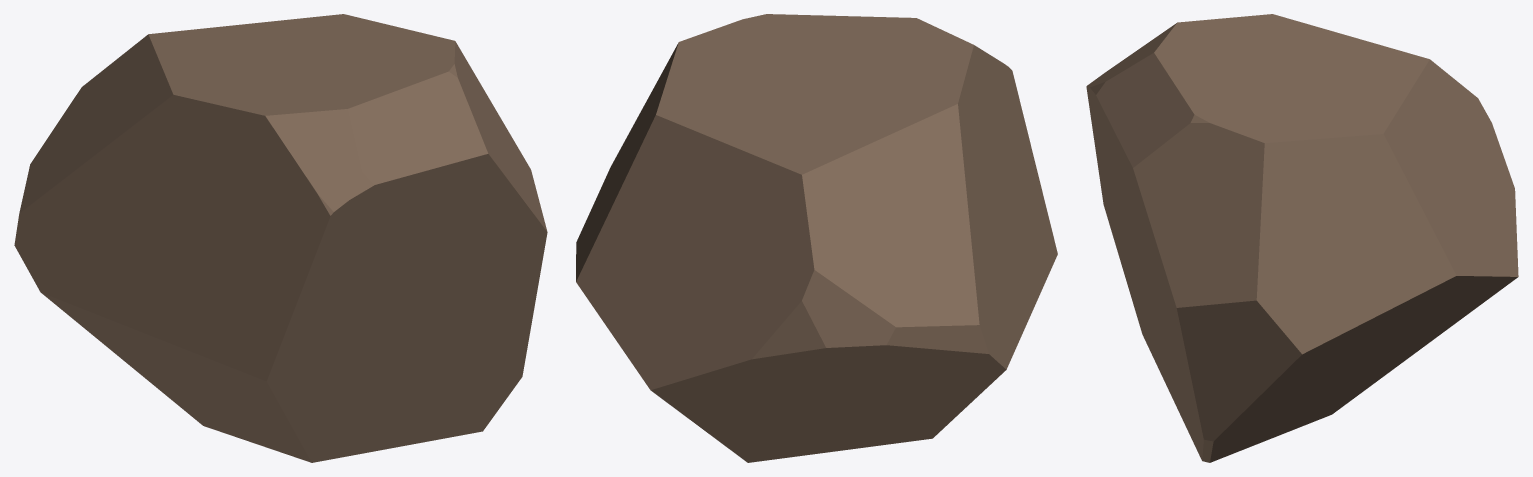
File: ForestRock2.fbx
3 renders of one model, left to right at view 1: azimuth 30°, elevation 25°; view 2: azimuth 150°, elevation 25°; view 3: azimuth 270°, elevation 25°, orthographic. The views are drawn at different scales.
Parts seen in each view (by area): view 1: ForestRock2; view 2: ForestRock2; view 3: ForestRock2.
Boxes of the visible parts, x1,y1,x2,y2 form: ForestRock2: (14, 14, 547, 462); ForestRock2: (576, 14, 1057, 462); ForestRock2: (1086, 14, 1518, 462).
Size of the model in its own units: 218 by 177 by 204.
